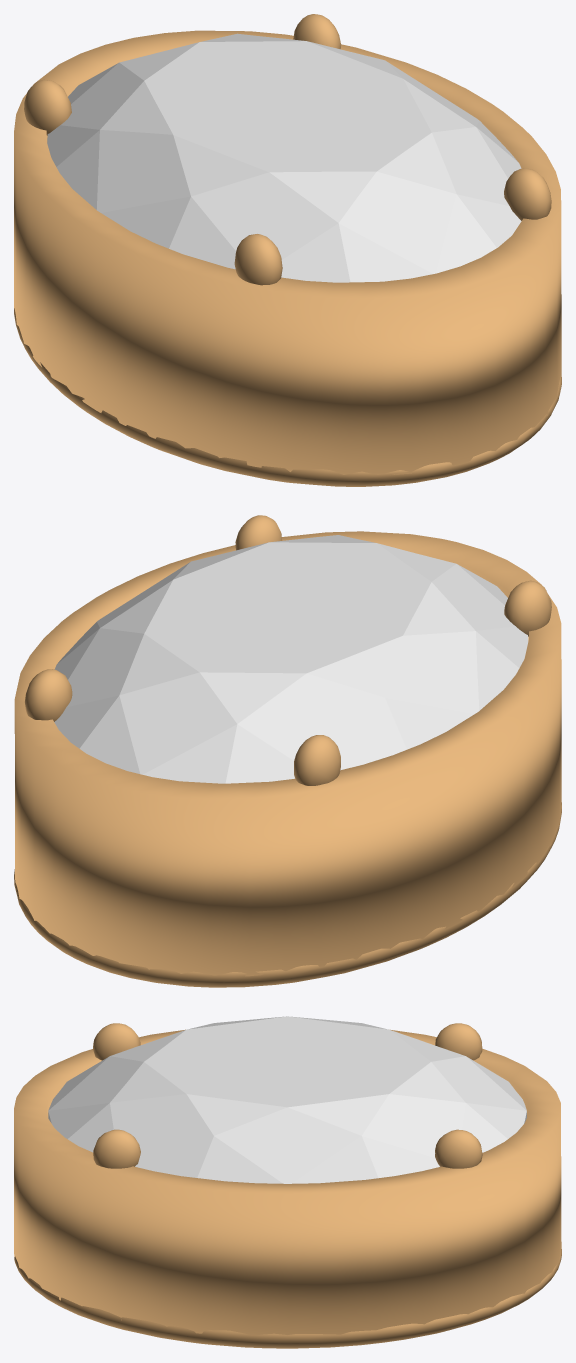
3 views of the same model, one above another, from view 1: azimuth 30°, elevation 25°; view 2: azimuth 150°, elevation 25°; view 3: azimuth 270°, elevation 25° (orthographic). The views are drawn at different scales.
Parts seen in each view (by area): view 1: Torus081, all-diamonds.1342; view 2: Torus081, all-diamonds.1342; view 3: Torus081, all-diamonds.1342.
Boxes of the visible parts, x1=… form: Torus081: x1=14, y1=14, x2=561, y2=486; all-diamonds.1342: x1=47, y1=33, x2=521, y2=282; Torus081: x1=14, y1=515, x2=561, y2=987; all-diamonds.1342: x1=54, y1=535, x2=528, y2=783; Torus081: x1=14, y1=1023, x2=561, y2=1348; all-diamonds.1342: x1=48, y1=1016, x2=526, y2=1183.
Size of the model in its own units: 2.44 by 1.44 by 3.3.
